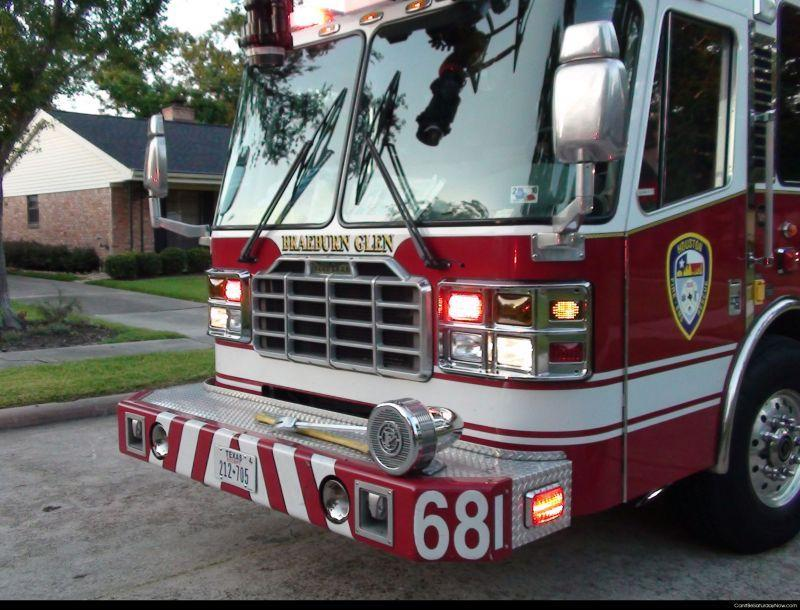Fire-engine: (116, 0, 799, 564)
